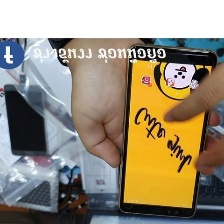phone: (115, 41, 220, 221), (0, 80, 51, 159)
